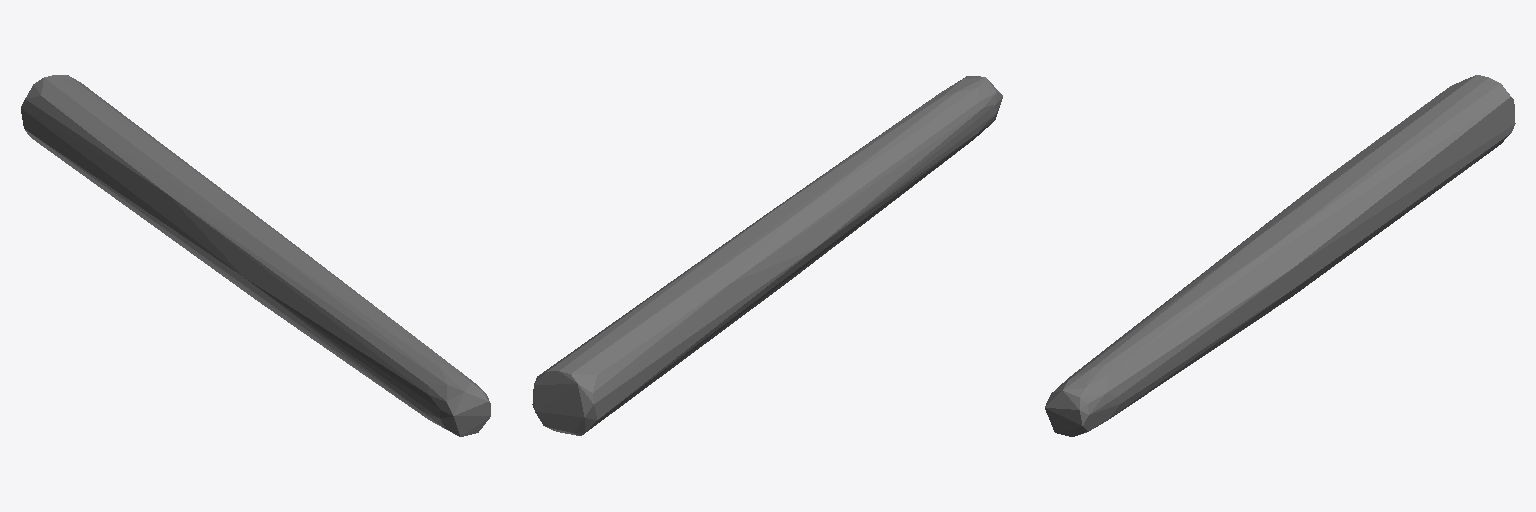
The robot description file, URDF, robot "wrench_002":
<?xml version="1.0" ?>
<robot name="wrench_002">
  <material name="color">
    <color rgba=".5 .5 .5 1"/>
  </material>

  <link name="base_link">
    <contact>
      <lateral_friction value="1.0"/>
      <rolling_friction value="0.001"/>
      <spinning_friction value="0.001"/>
      <inertia_scaling value="1.0"/>
    </contact>
    <inertial>
      <origin rpy="0 0 0" xyz="1.27351e-06 0.0212809 0.00395946"/>
       <mass value="0.1"/>
       <inertia ixx="1" ixy="0" ixz="0" iyy="1" iyz="0" izz="1"/>
    </inertial>

    <visual>
      <origin rpy="0 0 0" xyz="0 0 0"/>
      <geometry>
        <mesh filename="wrench_002_vhacd_0_of_1.obj" scale="1 1 1"/>
      </geometry>
      <material name="color"/>
    </visual>

    <collision>
      <origin rpy="0 0 0" xyz="0 0 0"/>
      <geometry>
        <mesh filename="wrench_002_vhacd_0_of_1.obj" scale="1 1 1"/>
      </geometry>
    </collision>

  </link>
</robot>

--- Facts derived from the render (not from the file) ---
Views: 3 orthographic renders of the robot side by side, from view 1: azimuth 30°, elevation 25°; view 2: azimuth 150°, elevation 25°; view 3: azimuth 330°, elevation 25°.
Model wrench_002 with 1 links and 0 joints (none), rooted at base_link, posed all joints at 0.
Visible links, largest first — view 1: base_link; view 2: base_link; view 3: base_link.
Link boxes in pixels (bbox=[...]): base_link: bbox=[21, 75, 490, 436]; base_link: bbox=[532, 76, 1002, 435]; base_link: bbox=[1045, 75, 1515, 436].
Size in the robot's own frame: 0.0164 by 0.1966 by 0.0164 metres.
Meshes: 1 distinct files referenced, 1 mesh visuals loaded (1 OBJ).